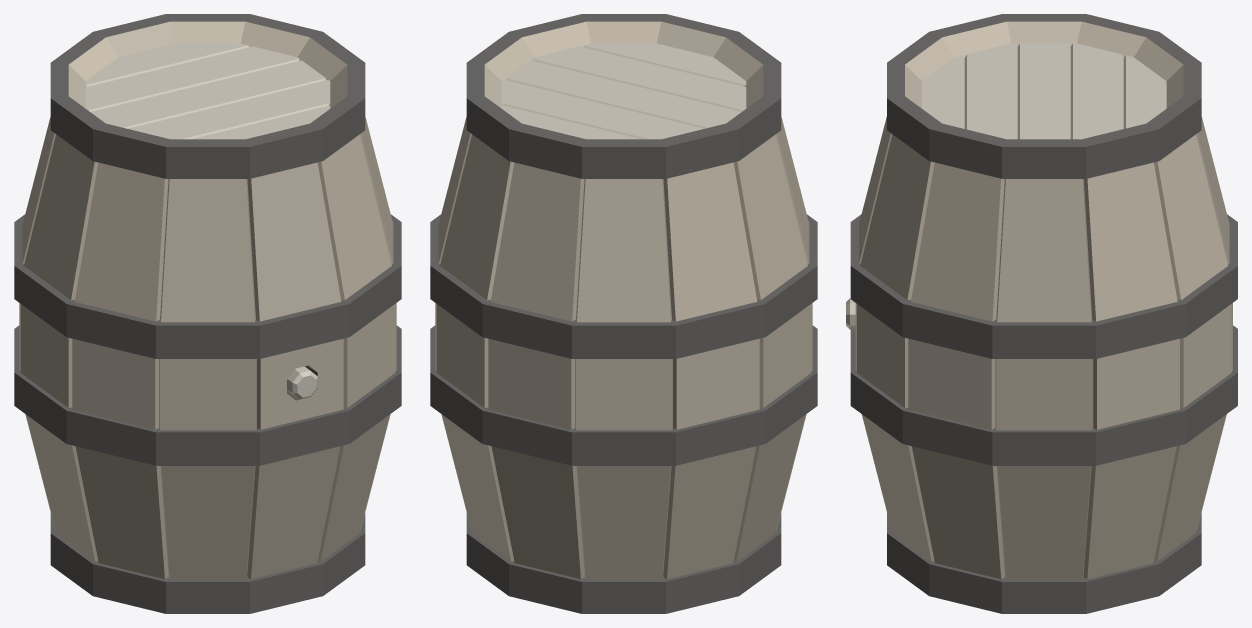
Rendered from barrel.glb.
3 views of the same model, side by side, from view 1: azimuth 30°, elevation 25°; view 2: azimuth 150°, elevation 25°; view 3: azimuth 270°, elevation 25° (orthographic).
Visible parts, largest first — view 1: barrel.001; view 2: barrel.001; view 3: barrel.001.
Boxes of the visible parts, x1,y1,x2,y2 form: barrel.001: [14, 14, 401, 613]; barrel.001: [430, 14, 817, 613]; barrel.001: [846, 14, 1237, 613].
Size of the model in its own units: 0.6046 by 0.805 by 0.6118.
